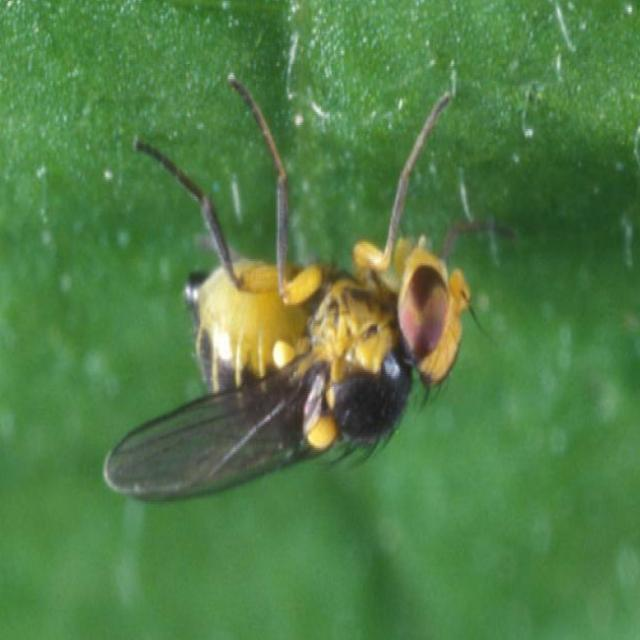Serpentine leafminer: (100, 62, 527, 507)
